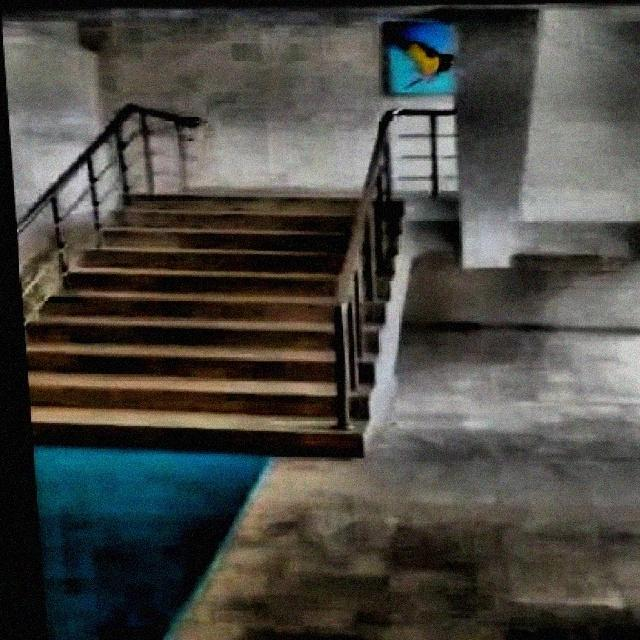stair: (14, 196, 428, 458)
